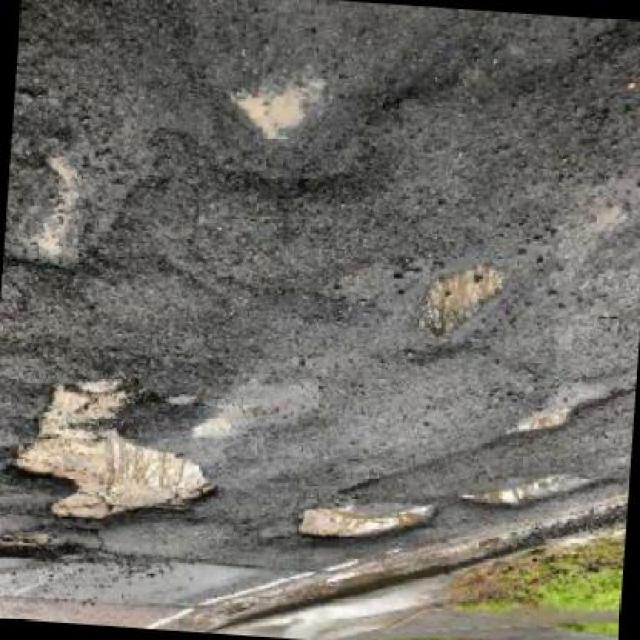pothole: (1, 371, 234, 543), (6, 149, 103, 289), (293, 494, 438, 555), (416, 259, 510, 344), (458, 467, 594, 522), (2, 532, 86, 574)
